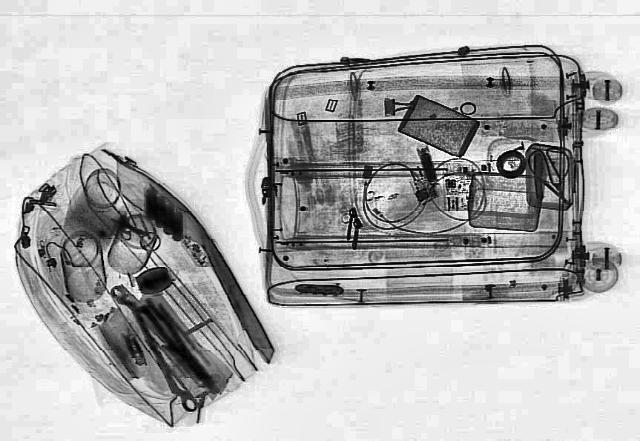Pliers: (132, 298, 215, 380)
Wrench: (104, 282, 204, 414)
